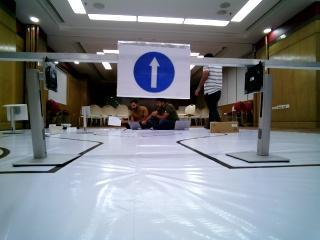straight: (117, 40, 191, 99)
